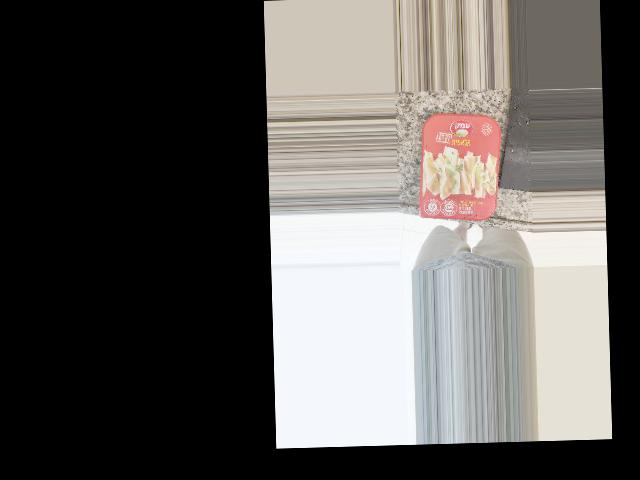cheese: (415, 110, 503, 224)
